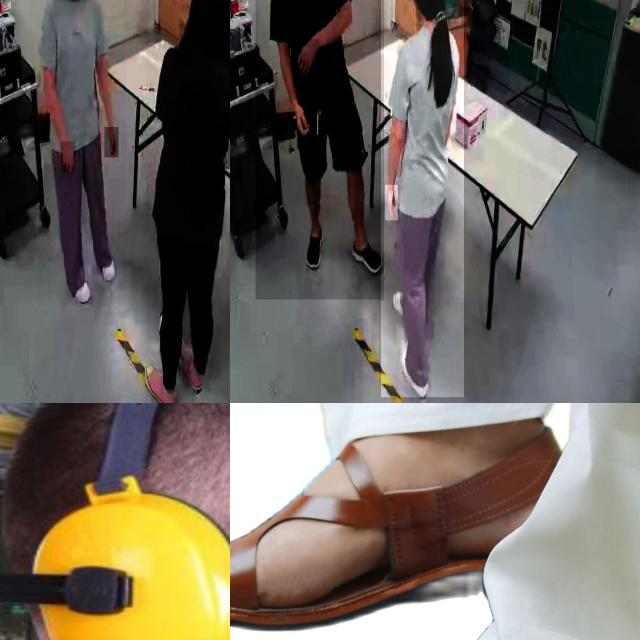Ear-protection: (0, 403, 230, 640)
hand_noglove: (295, 39, 320, 75), (292, 100, 311, 138), (385, 185, 399, 221), (61, 142, 76, 172), (105, 127, 119, 158)
person: (0, 403, 230, 640), (255, 0, 384, 300), (145, 0, 230, 403), (381, 0, 464, 398), (38, 0, 126, 306)
shoes: (178, 332, 206, 396), (90, 223, 118, 285), (63, 254, 93, 308), (143, 362, 179, 403), (350, 236, 384, 278), (305, 218, 324, 271)
